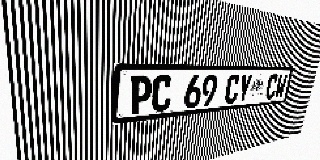6: (183, 75, 203, 109)
9: (200, 75, 218, 107)
C: (151, 75, 173, 112), (224, 74, 241, 104), (264, 74, 279, 100)
P: (129, 75, 153, 115)
W: (274, 74, 288, 99)
Y: (236, 74, 253, 103)
